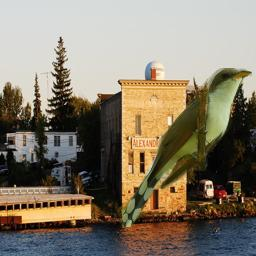Cuckoo: (122, 68, 252, 227)
